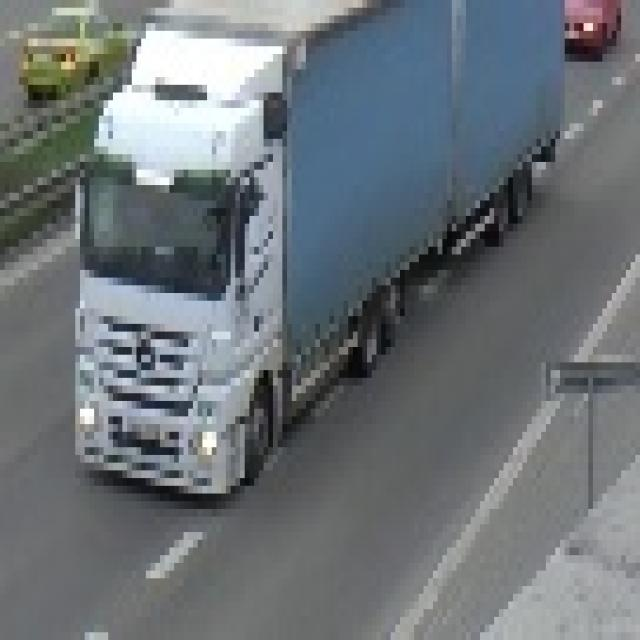TRUCK: (76, 0, 567, 507)
